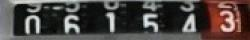digits: (136, 10, 162, 38), (59, 13, 85, 37), (216, 9, 236, 34), (21, 14, 42, 37), (178, 13, 198, 37), (103, 11, 122, 35)
